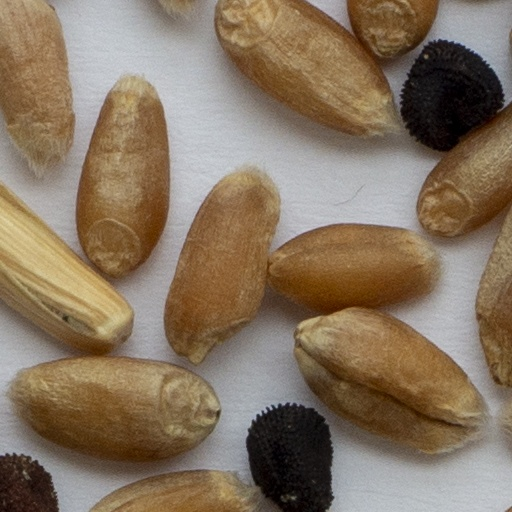Agrostemma-poly: (398, 38, 505, 153), (242, 403, 335, 511), (0, 452, 60, 511)
Peel-poly: (0, 179, 136, 356)
